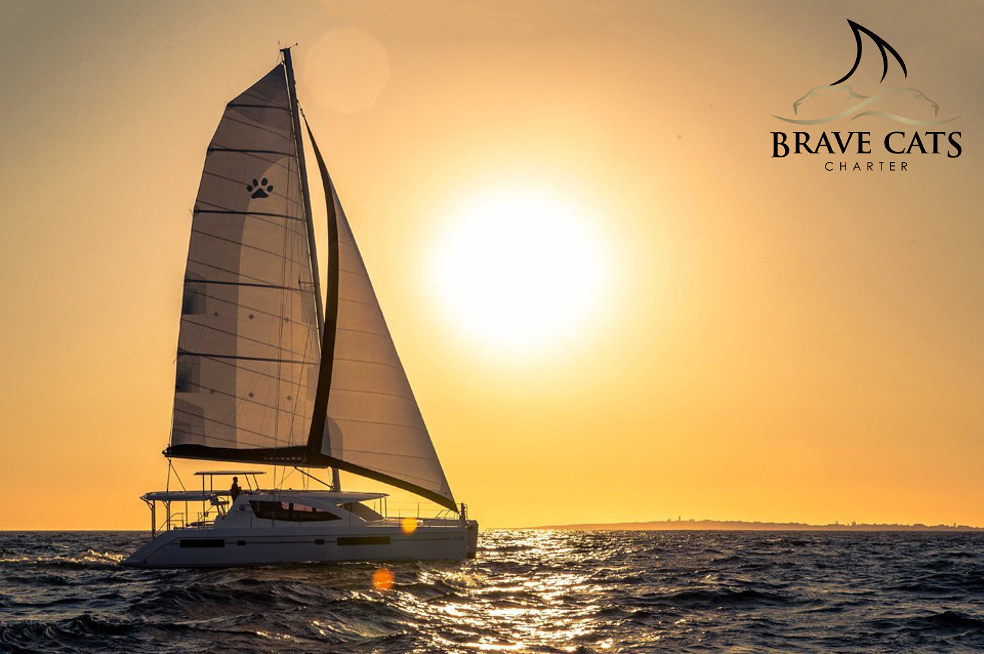boat: (132, 46, 487, 587)
